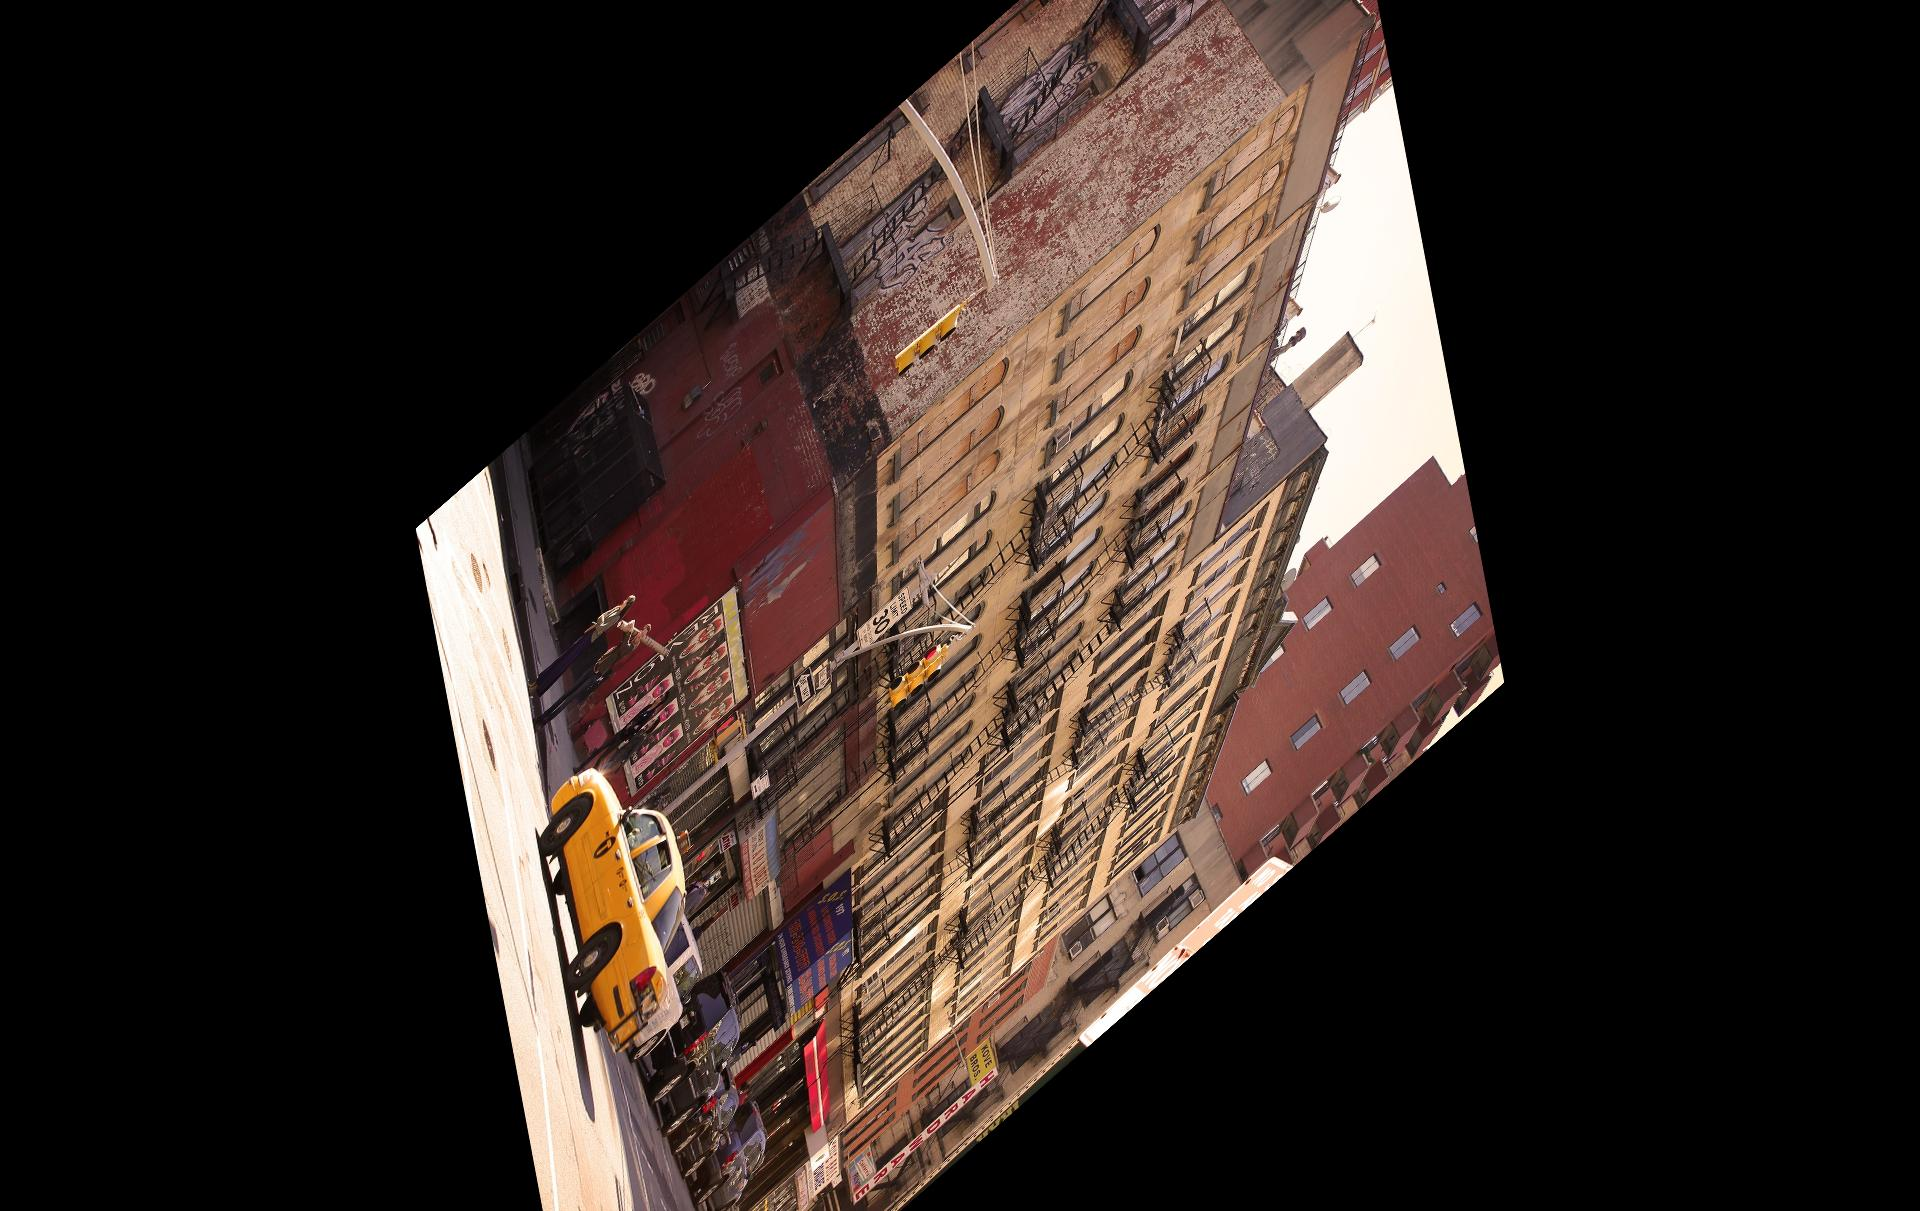taxi: (539, 758, 688, 1051)
